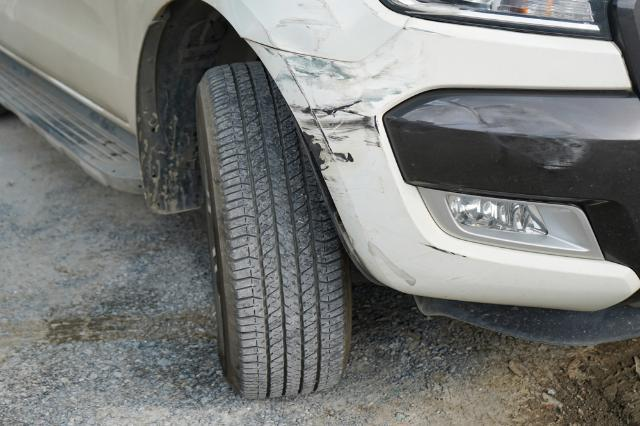scratch: (268, 0, 422, 199), (419, 242, 469, 262)
